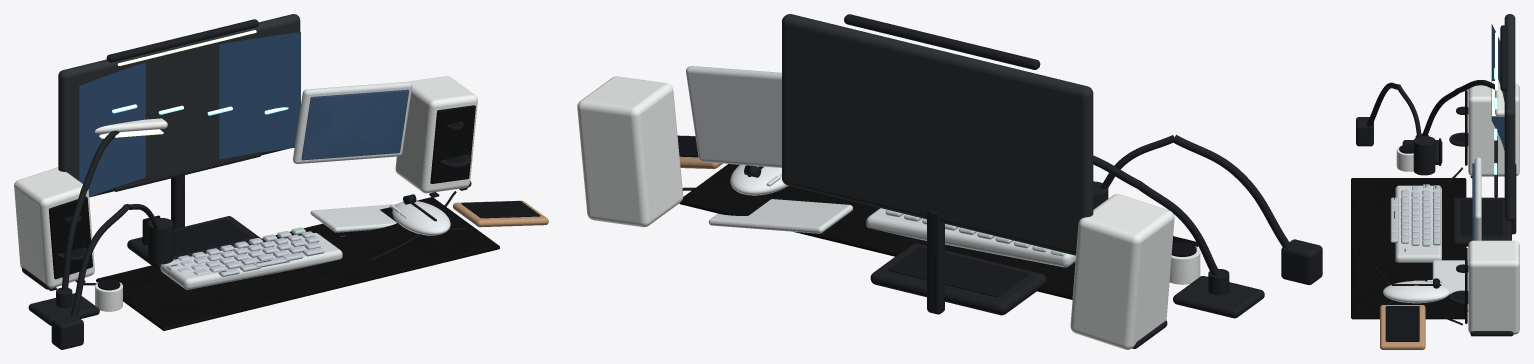
Rendered from p2s_commercial_desk_accessory_kit_v1.glb.
3 views of the same model, side by side, from view 1: azimuth 30°, elevation 25°; view 2: azimuth 150°, elevation 25°; view 3: azimuth 270°, elevation 25° (orthographic). The views are drawn at different scales.
Visible parts, largest first — view 1: accessory_primary_monitor_curved_oled_screen_surface, accessory_full_desk_mat_stitched_black_fabric, accessory_primary_monitor_graphite_back_shell, accessory_secondary_display_glass, accessory_left_compact_speaker_white_cabinet, accessory_right_compact_speaker_white_cabinet, accessory_keyboard_aluminum_low_profile_case, accessory_right_speaker_black_front_baffle, accessory_secondary_display_silver_back, accessory_left_speaker_black_front_baffle, accessory_secondary_display_low_stand, accessory_primary_monitor_base_rubber_inset (+16 smaller); view 2: accessory_primary_monitor_graphite_back_shell, accessory_right_compact_speaker_white_cabinet, accessory_left_compact_speaker_white_cabinet, accessory_secondary_display_silver_back, accessory_full_desk_mat_stitched_black_fabric, accessory_primary_monitor_weighted_base, accessory_secondary_display_low_stand, accessory_primary_monitor_base_rubber_inset, accessory_keyboard_aluminum_low_profile_case, accessory_primary_monitor_lightbar_body, accessory_desk_lamp_weighted_disc_base, accessory_primary_monitor_satin_neck (+6 smaller); view 3: accessory_full_desk_mat_stitched_black_fabric, accessory_right_compact_speaker_white_cabinet, accessory_left_compact_speaker_white_cabinet, accessory_primary_monitor_graphite_back_shell, accessory_keyboard_aluminum_low_profile_case, accessory_tray_recess_shadow, accessory_primary_monitor_base_rubber_inset, accessory_mouse_sculpted_white_shell, accessory_primary_monitor_weighted_base, accessory_secondary_display_low_stand, accessory_oak_tray_low_rounded_rect, accessory_broadcast_mic_capsule_body (+18 smaller).
Boxes of the visible parts, x1,y1,x2,y2 form: accessory_primary_monitor_curved_oled_screen_surface: (79, 32, 300, 196); accessory_full_desk_mat_stitched_black_fabric: (96, 197, 499, 330); accessory_primary_monitor_graphite_back_shell: (58, 14, 300, 196); accessory_secondary_display_glass: (301, 89, 409, 160); accessory_left_compact_speaker_white_cabinet: (14, 167, 94, 288); accessory_right_compact_speaker_white_cabinet: (395, 76, 477, 193); accessory_keyboard_aluminum_low_profile_case: (160, 233, 342, 289); accessory_right_speaker_black_front_baffle: (430, 105, 475, 183); accessory_secondary_display_silver_back: (293, 82, 412, 163); accessory_left_speaker_black_front_baffle: (49, 196, 92, 279); accessory_secondary_display_low_stand: (310, 204, 396, 232); accessory_primary_monitor_base_rubber_inset: (141, 219, 250, 255); accessory_primary_monitor_graphite_back_shell: (782, 14, 1093, 255); accessory_right_compact_speaker_white_cabinet: (577, 76, 683, 227); accessory_left_compact_speaker_white_cabinet: (1070, 194, 1174, 349); accessory_secondary_display_silver_back: (686, 66, 781, 167); accessory_full_desk_mat_stitched_black_fabric: (679, 164, 1197, 299); accessory_primary_monitor_weighted_base: (870, 243, 1046, 315); accessory_secondary_display_low_stand: (708, 199, 852, 233); accessory_primary_monitor_base_rubber_inset: (888, 247, 1029, 297); accessory_keyboard_aluminum_low_profile_case: (866, 208, 1075, 267); accessory_primary_monitor_lightbar_body: (844, 14, 1040, 69); accessory_desk_lamp_weighted_disc_base: (1173, 276, 1264, 318); accessory_primary_monitor_satin_neck: (927, 210, 944, 314); accessory_full_desk_mat_stitched_black_fabric: (1351, 178, 1466, 319); accessory_right_compact_speaker_white_cabinet: (1468, 240, 1519, 334); accessory_left_compact_speaker_white_cabinet: (1468, 83, 1519, 176); accessory_primary_monitor_graphite_back_shell: (1504, 14, 1515, 221); accessory_keyboard_aluminum_low_profile_case: (1395, 185, 1441, 262); accessory_tray_recess_shadow: (1385, 306, 1419, 341); accessory_primary_monitor_base_rubber_inset: (1461, 199, 1502, 235); accessory_mouse_sculpted_white_shell: (1383, 281, 1450, 303); accessory_primary_monitor_weighted_base: (1452, 197, 1511, 246); accessory_secondary_display_low_stand: (1432, 260, 1468, 311); accessory_oak_tray_low_rounded_rect: (1380, 305, 1425, 349); accessory_broadcast_mic_capsule_body: (1413, 136, 1435, 175).
Bounding box in the file's own units: 2.48 × 0.986 × 0.85.
17 materials, 4 textured.
